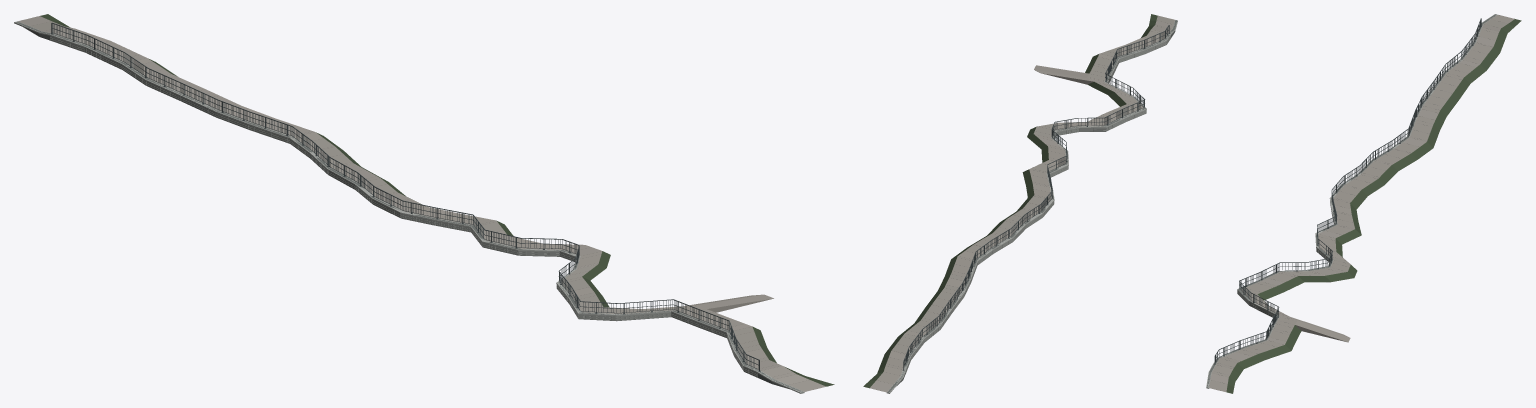
File: campus-riverwalk-t7.glb
3 views of the same model, side by side, from view 1: azimuth 30°, elevation 25°; view 2: azimuth 150°, elevation 25°; view 3: azimuth 330°, elevation 25° (orthographic). The views are drawn at different scales.
Parts seen in each view (by area): view 1: Path aggregate, Dark steel.001, Revetment stone, Coping, Path variation, Revetment shadow, Bank vegetation transition; view 2: Path aggregate, Dark steel.001, Bank vegetation transition, Coping, Path variation, Revetment stone, Revetment shadow; view 3: Path aggregate, Bank vegetation transition, Dark steel.001, Path variation, Coping, Revetment shadow.
Boxes of the visible parts, bbox=[...] form: Path aggregate: bbox=[30, 21, 825, 391]; Dark steel.001: bbox=[51, 22, 760, 371]; Revetment stone: bbox=[50, 36, 757, 377]; Coping: bbox=[14, 21, 804, 393]; Path variation: bbox=[18, 16, 809, 384]; Revetment shadow: bbox=[15, 21, 803, 392]; Bank vegetation transition: bbox=[40, 14, 834, 386]; Path aggregate: bbox=[877, 15, 1174, 383]; Dark steel.001: bbox=[903, 25, 1169, 370]; Bank vegetation transition: bbox=[863, 14, 1157, 388]; Coping: bbox=[886, 20, 1177, 393]; Path variation: bbox=[870, 20, 1173, 392]; Revetment stone: bbox=[905, 36, 1170, 374]; Revetment shadow: bbox=[887, 20, 1177, 392]; Path aggregate: bbox=[1209, 19, 1507, 391]; Bank vegetation transition: bbox=[1226, 19, 1521, 393]; Dark steel.001: bbox=[1214, 18, 1481, 364]; Path variation: bbox=[1210, 15, 1514, 383]; Coping: bbox=[1206, 14, 1496, 388]; Revetment shadow: bbox=[1206, 14, 1496, 387].
Size of the model in its own units: 29.3 by 1.8 by 102.
